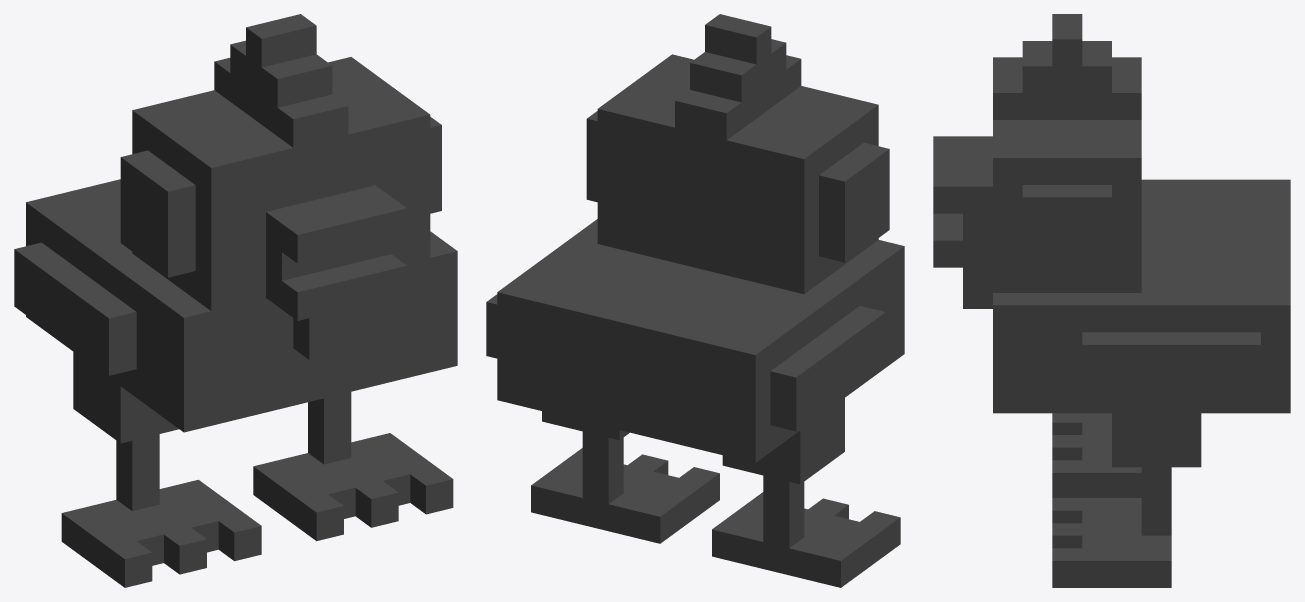
The model's file is chicken.obj.
3 views of the same model, side by side, from view 1: azimuth 30°, elevation 25°; view 2: azimuth 150°, elevation 25°; view 3: azimuth 270°, elevation 25° (orthographic). The views are drawn at different scales.
Size of the model in its own units: 1.2 by 1.8 by 1.2.
